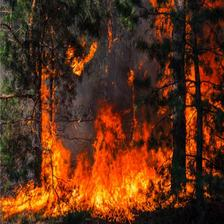fire: (7, 31, 216, 217)
